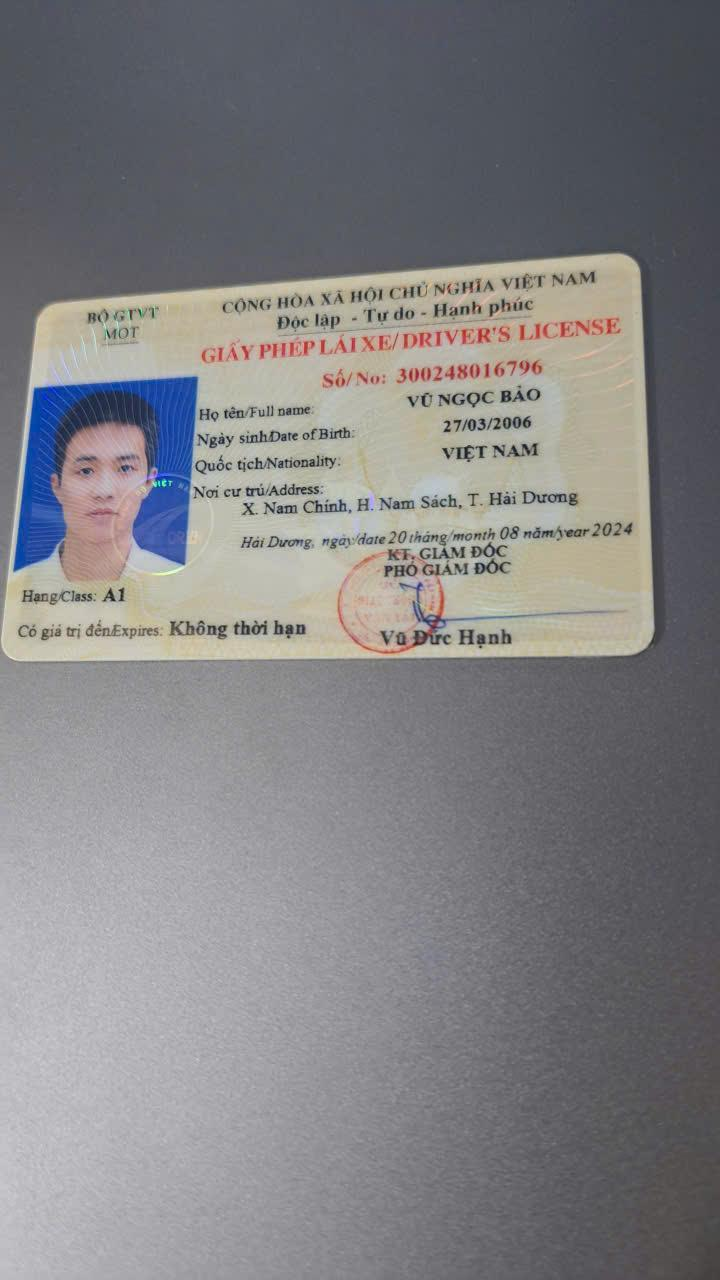gplx: (0, 247, 660, 670)
